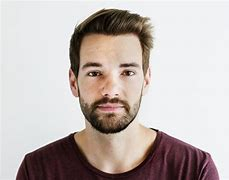person: (67, 7, 152, 136)
